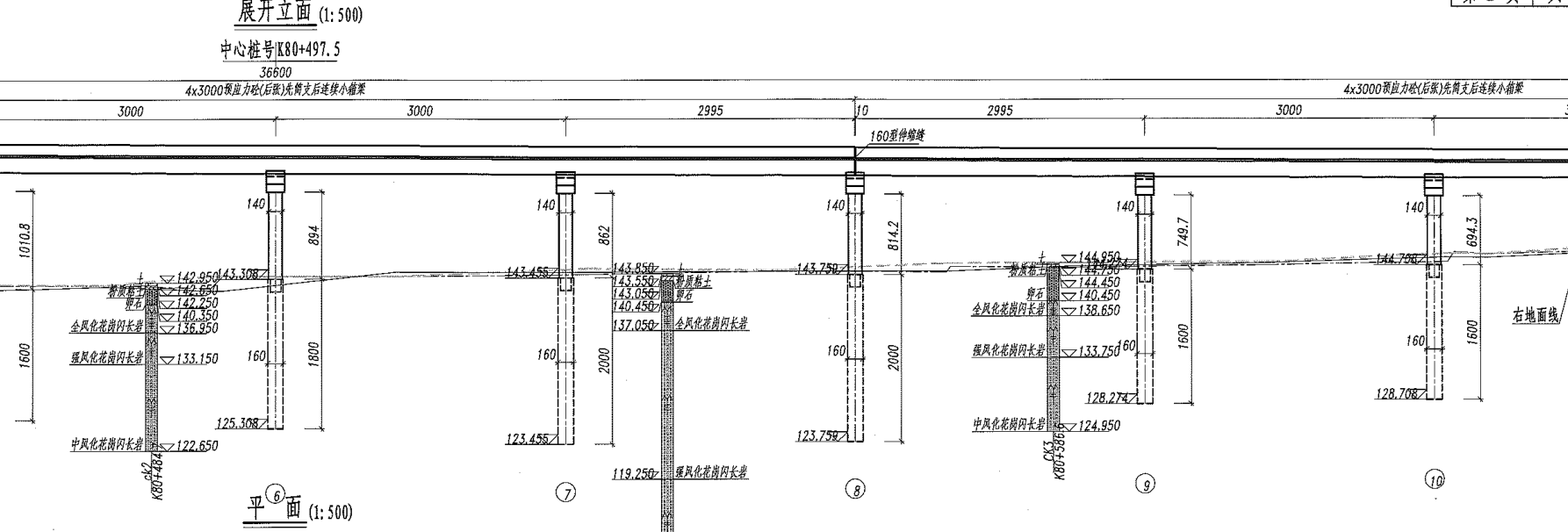C: (491, 164, 593, 508), (783, 165, 883, 506), (1360, 167, 1461, 498), (208, 163, 302, 508), (1078, 165, 1169, 500)
